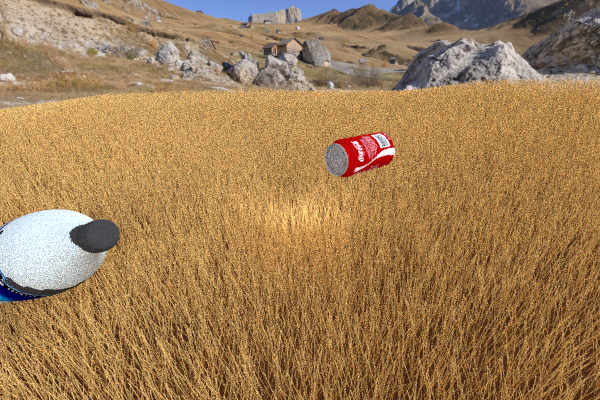bottle: (0, 209, 119, 305)
can: (324, 132, 394, 177), (196, 96, 233, 118)
